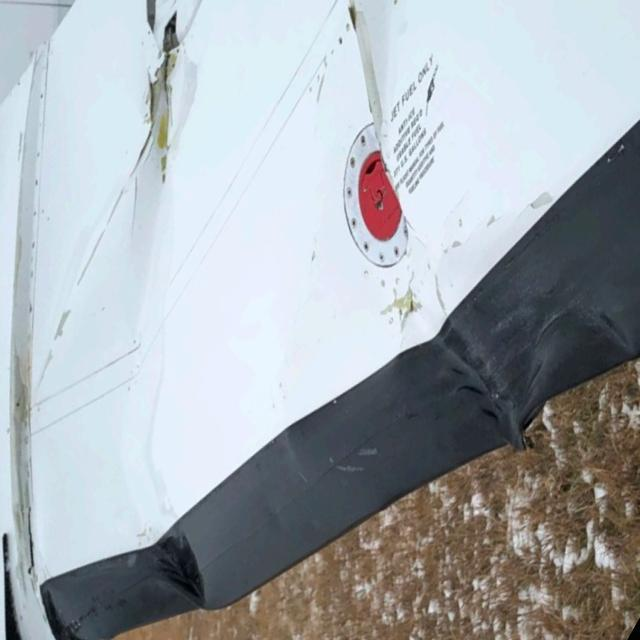crack: (143, 0, 186, 188), (401, 292, 423, 324)
